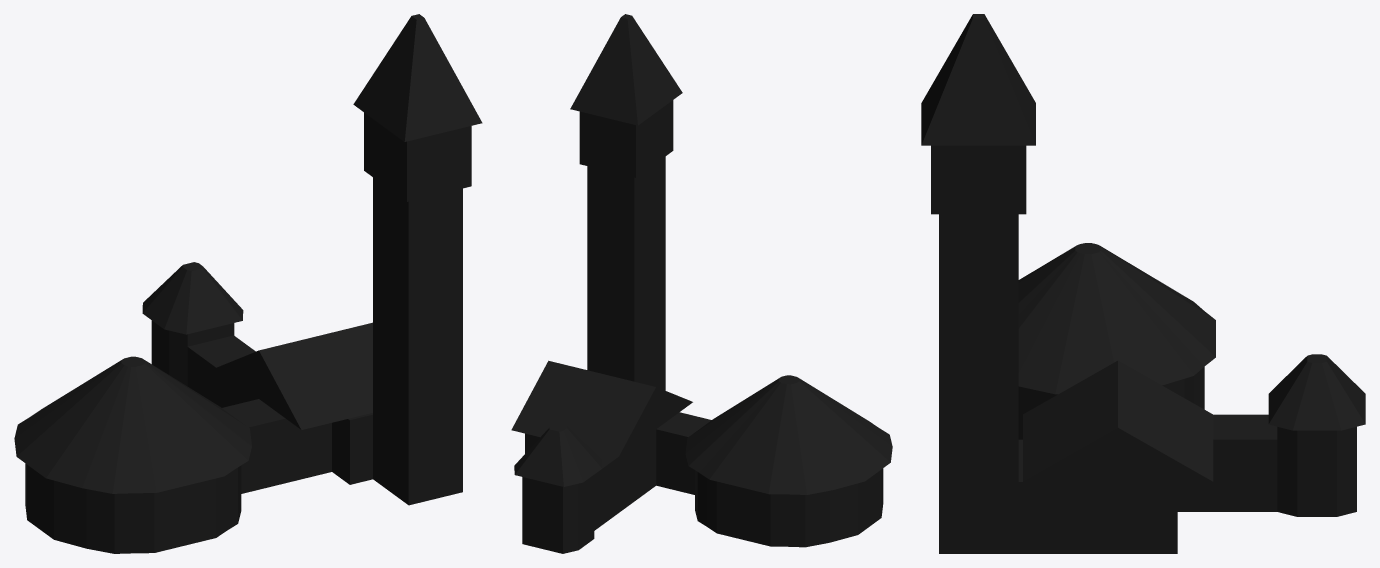
File: mod_building_clocktower.fbx
3 views of the same model, side by side, from view 1: azimuth 30°, elevation 25°; view 2: azimuth 150°, elevation 25°; view 3: azimuth 270°, elevation 25° (orthographic). The views are drawn at different scales.
Parts seen in each view (by area): view 1: mesh_obj_env_build_clockTower; view 2: mesh_obj_env_build_clockTower; view 3: mesh_obj_env_build_clockTower.
Part boxes in pixels (bbox=[...]): mesh_obj_env_build_clockTower: bbox=[14, 14, 482, 553]; mesh_obj_env_build_clockTower: bbox=[511, 14, 892, 553]; mesh_obj_env_build_clockTower: bbox=[921, 14, 1365, 553].
Size of the model in its own units: 2232 by 2900 by 2437.
